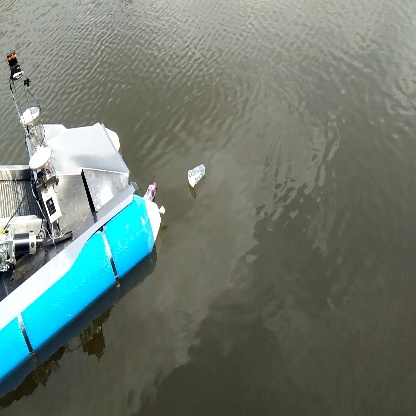bottle: (185, 162, 209, 191)
